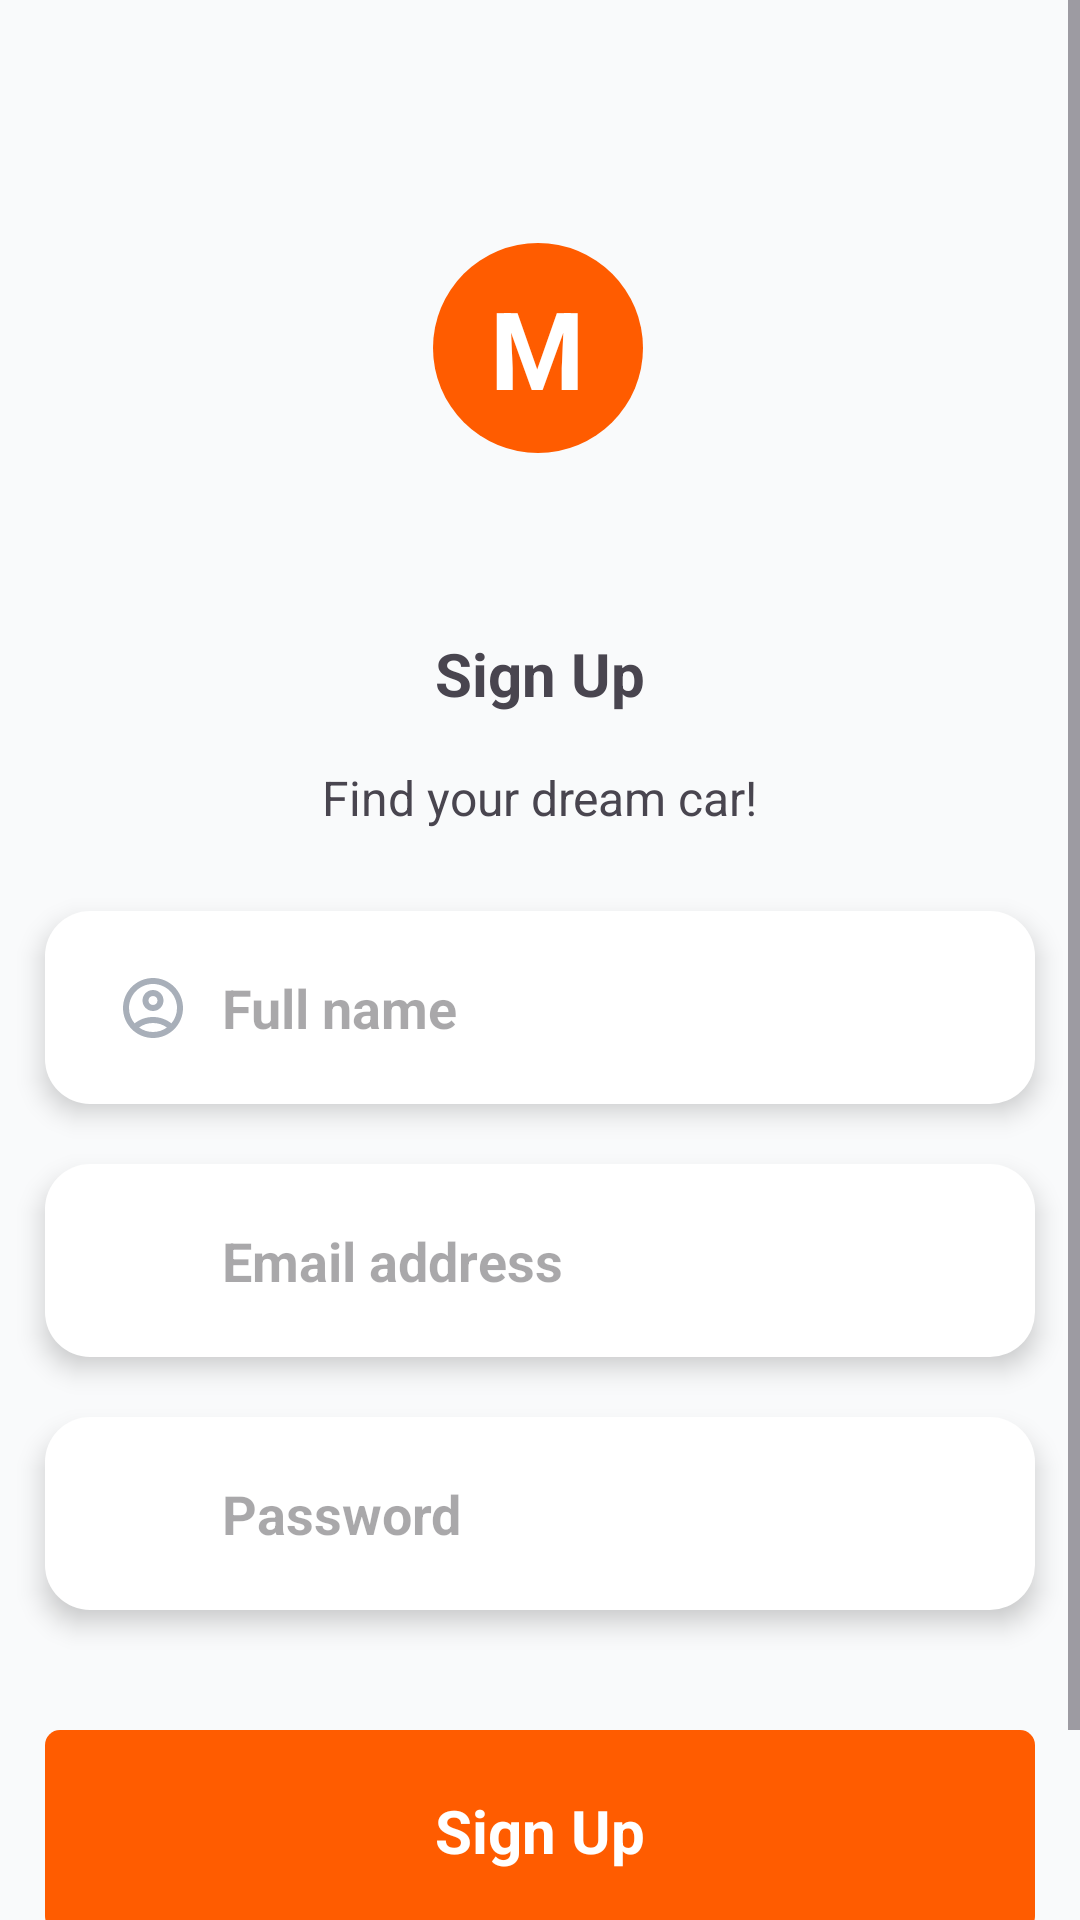

Named icons in this screenshot (1080px x 1920px) and their bounding boxes, (x1, y1, x2, y2):
account: (123, 978, 183, 1038)
